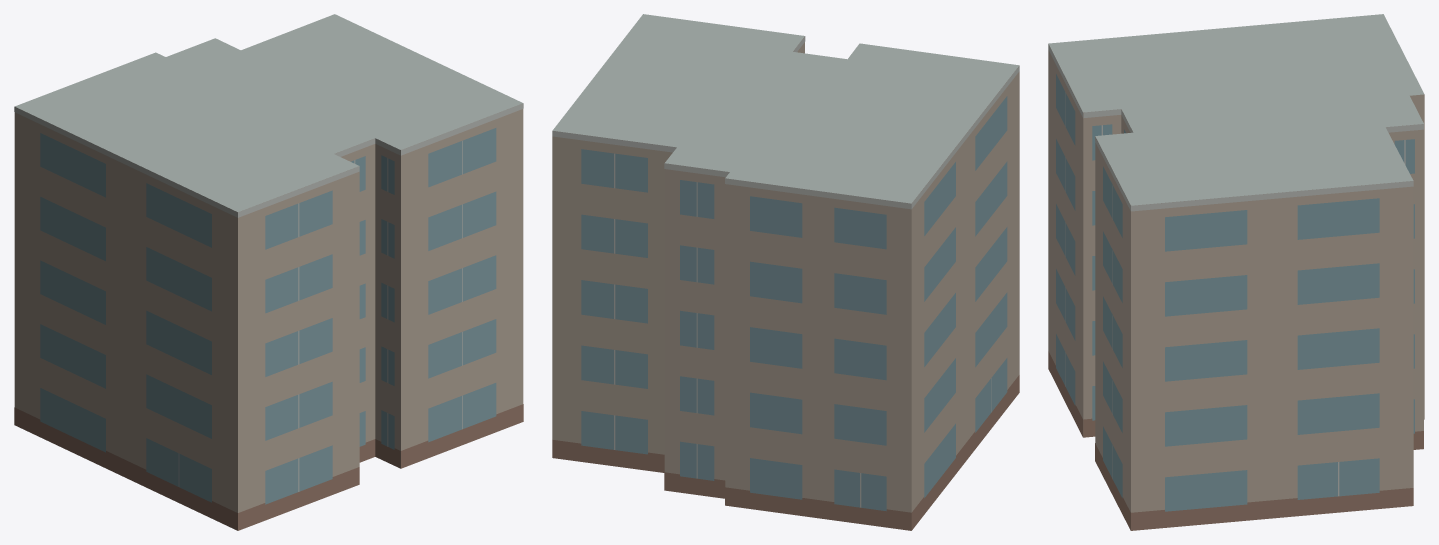
The model's file is survey-upis-32605531.glb.
3 renders of one model, left to right at view 1: azimuth 30°, elevation 25°; view 2: azimuth 150°, elevation 25°; view 3: azimuth 270°, elevation 25°, orthographic. The views are drawn at different scales.
Parts seen in each view (by area): view 1: survey-upis-32605531.tmp; view 2: survey-upis-32605531.tmp; view 3: survey-upis-32605531.tmp.
Boxes of the visible parts, x1=… form: survey-upis-32605531.tmp: x1=14, y1=14, x2=523, y2=530; survey-upis-32605531.tmp: x1=552, y1=14, x2=1019, y2=530; survey-upis-32605531.tmp: x1=1048, y1=14, x2=1424, y2=530.
Size of the model in its own units: 17.59 by 13.9 by 14.59.
